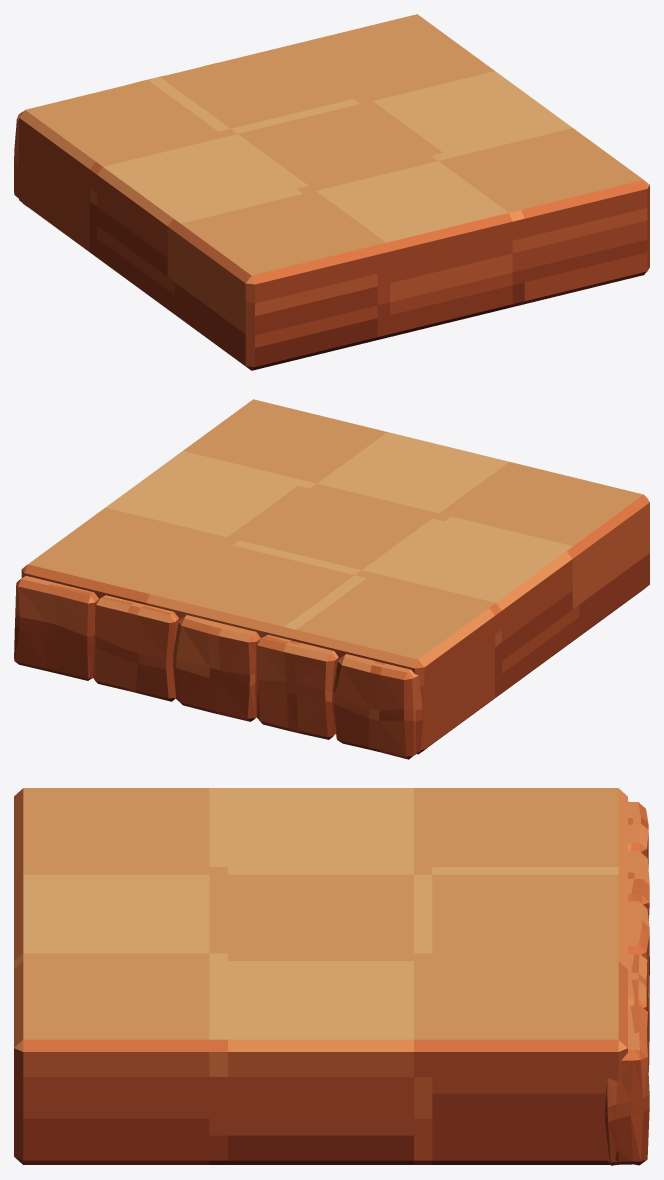
File: SM_GROUND_RAISED_01.fbx
3 views of the same model, one above another, from view 1: azimuth 30°, elevation 25°; view 2: azimuth 150°, elevation 25°; view 3: azimuth 270°, elevation 25° (orthographic). The views are drawn at different scales.
Parts seen in each view (by area): view 1: GROUND_RAISED_01; view 2: GROUND_RAISED_01; view 3: GROUND_RAISED_01.
Part boxes in pixels (x1,y1,x2,y2): GROUND_RAISED_01: (14,14,649,370); GROUND_RAISED_01: (14,399,649,759); GROUND_RAISED_01: (14,788,649,1165).
Size of the model in its own units: 4.02 by 4.14 by 0.9.
